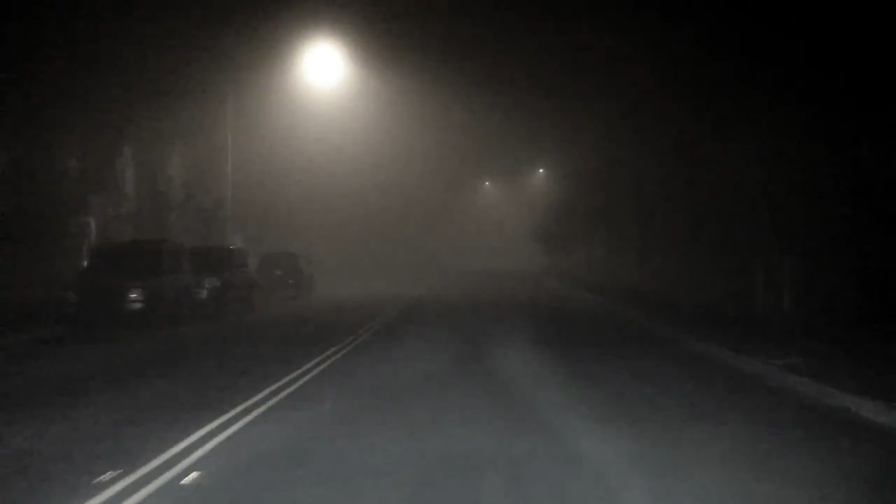car: (72, 237, 193, 333), (185, 242, 258, 318), (256, 248, 316, 301)
